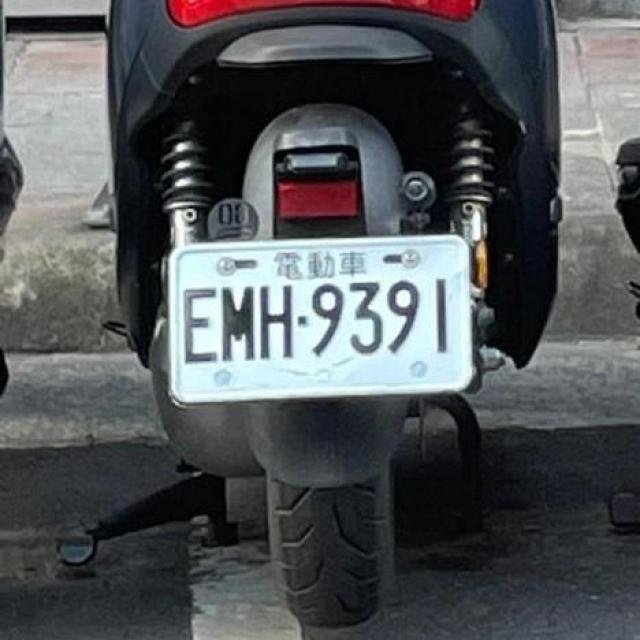W: (152, 212, 484, 418)
